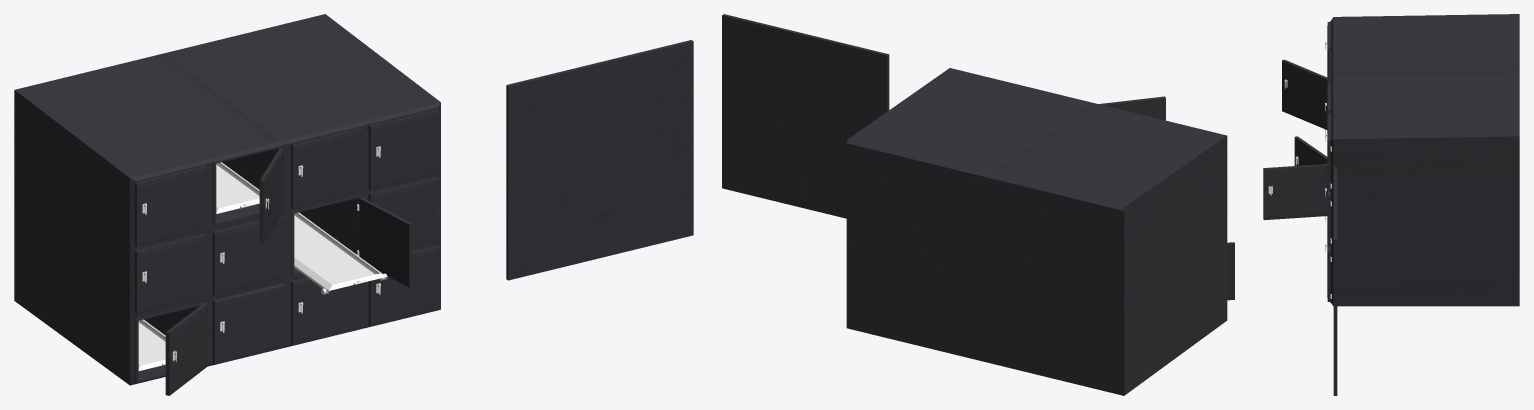
Rendered from sketchfab-morgue-refrigerator-porteous.glb.
The picture shows the model from 3 angles, left to right: view 1: azimuth 30°, elevation 25°; view 2: azimuth 150°, elevation 25°; view 3: azimuth 270°, elevation 25°; orthographic projection. The views are drawn at different scales.
Visible parts, largest first — view 1: Cube_0, Cube.013_27, Cube.010_24, Cube.011_25, Cube.009_23, Cube.007_21, Cube.003_18, Cube.008_22, Cylinder.001_5, Cube.004_4, Cube.001_16, Cube.005_19 (+5 smaller); view 2: Cube_0, Cube.013_27, Cube.012_26, Cube.002_17; view 3: Cube_0, Cube.005_19, Cube.012_26, Cube.013_27, Cube.002_17, Cube.010_24.
Part boxes in pixels (box(x1,y1,x2,y2)): Cube_0: box(14, 14, 440, 385); Cube.013_27: box(506, 40, 693, 280); Cube.010_24: box(368, 109, 440, 189); Cube.011_25: box(135, 166, 206, 246); Cube.009_23: box(291, 128, 362, 208); Cube.007_21: box(135, 234, 206, 314); Cube.003_18: box(212, 288, 283, 364); Cube.008_22: box(212, 215, 283, 295); Cylinder.001_5: box(294, 212, 387, 294); Cube.004_4: box(291, 278, 362, 345); Cube.001_16: box(368, 246, 440, 326); Cube.005_19: box(357, 197, 412, 287); Cube_0: box(846, 68, 1227, 395); Cube.013_27: box(722, 14, 889, 218); Cube.012_26: box(1099, 96, 1165, 120); Cube.002_17: box(1227, 242, 1234, 300); Cube_0: box(1325, 14, 1519, 306); Cube.005_19: box(1263, 164, 1327, 220); Cube.012_26: box(1282, 59, 1329, 129); Cube.013_27: box(1333, 166, 1337, 395); Cube.002_17: box(1294, 136, 1327, 165); Cube.010_24: box(1325, 113, 1331, 191).
Bounding box in the file's own units: 18.32 × 6.56 × 8.95.
Materials: 3 (1 with a texture image).
